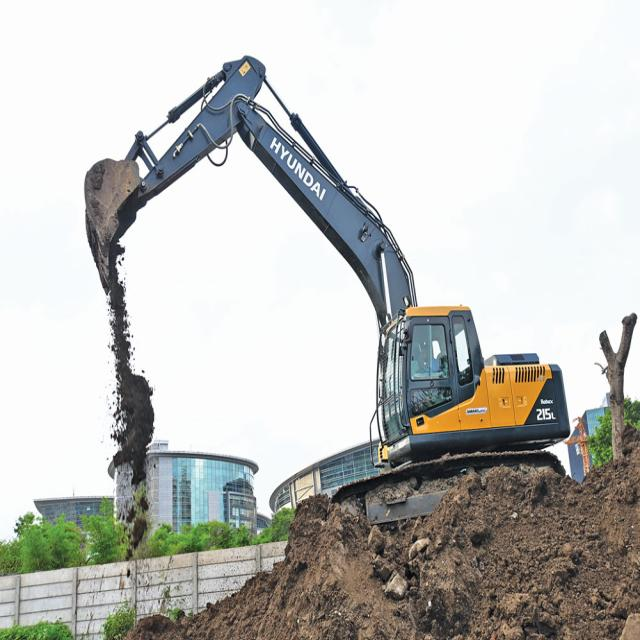excavator: (73, 49, 578, 480)
